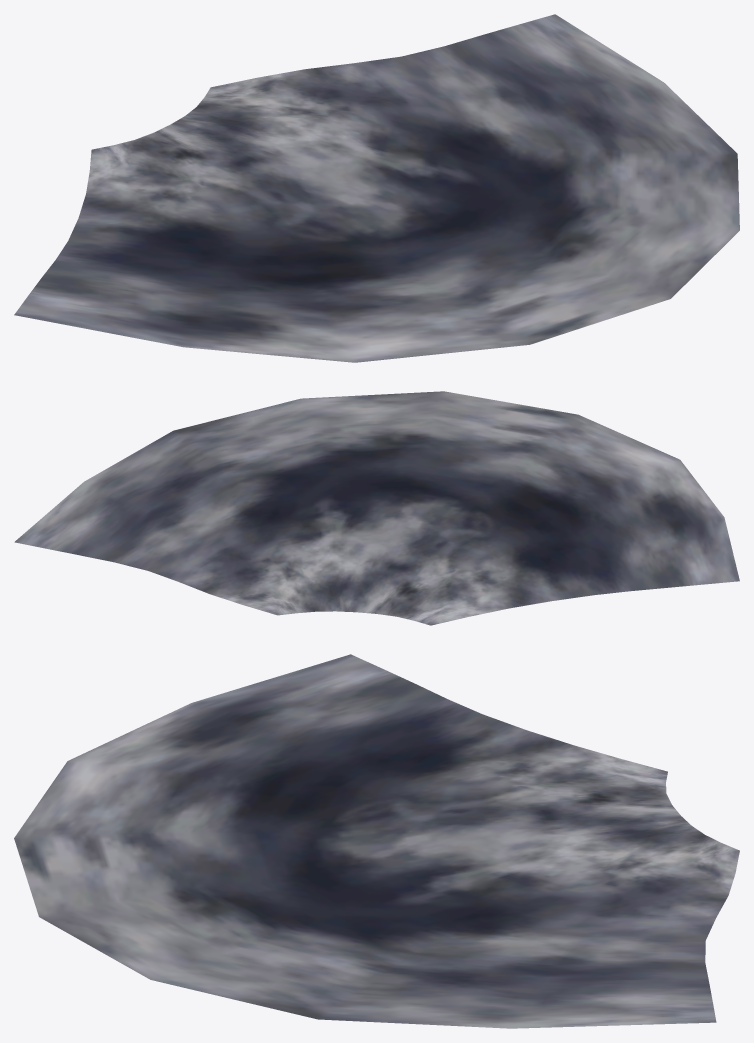
The model's file is CB_NEWPLAYSURFACE_CB_WATERFALLS02.fbx.
3 renders of one model, top to bottom at view 1: azimuth 30°, elevation 25°; view 2: azimuth 150°, elevation 25°; view 3: azimuth 270°, elevation 25°, orthographic. The views are drawn at different scales.
Visible parts, largest first — view 1: CB_NEWPLAYSURFACE_CB_WATERFALLS02; view 2: CB_NEWPLAYSURFACE_CB_WATERFALLS02; view 3: CB_NEWPLAYSURFACE_CB_WATERFALLS02.
Boxes of the visible parts, x1=… form: CB_NEWPLAYSURFACE_CB_WATERFALLS02: x1=14, y1=14, x2=739, y2=362; CB_NEWPLAYSURFACE_CB_WATERFALLS02: x1=14, y1=391, x2=739, y2=625; CB_NEWPLAYSURFACE_CB_WATERFALLS02: x1=14, y1=654, x2=739, y2=1028.
Size of the model in its own units: 169112 by 1594 by 138598.
Materials: 1 (1 with a texture image).
